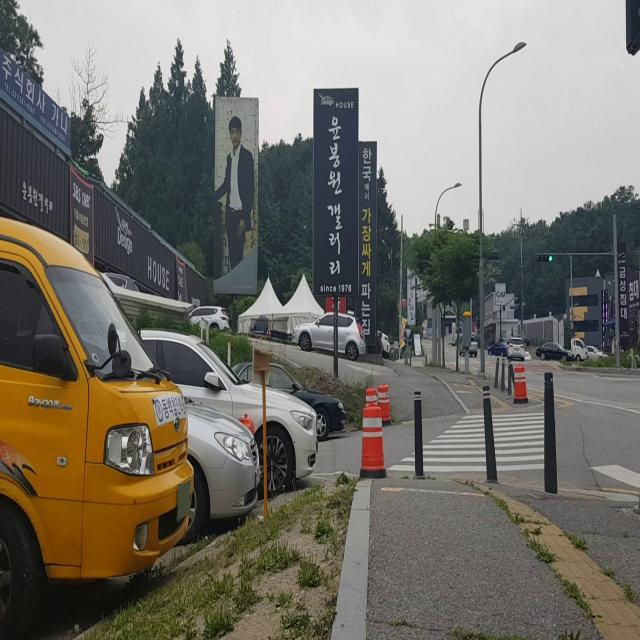횡단보도: (386, 411, 556, 473)
